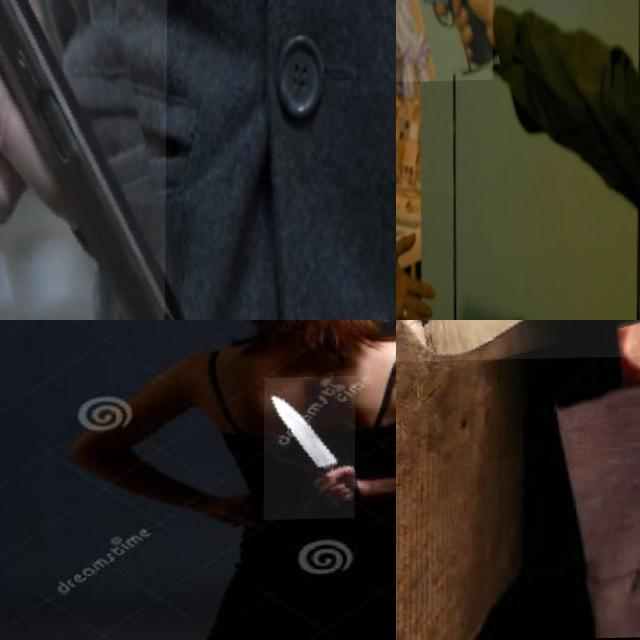-: (396, 320, 640, 484), (264, 378, 356, 522)
gun-knife-thesis - v11 Yolov5 augmented: (0, 0, 168, 320), (396, 0, 494, 83)
